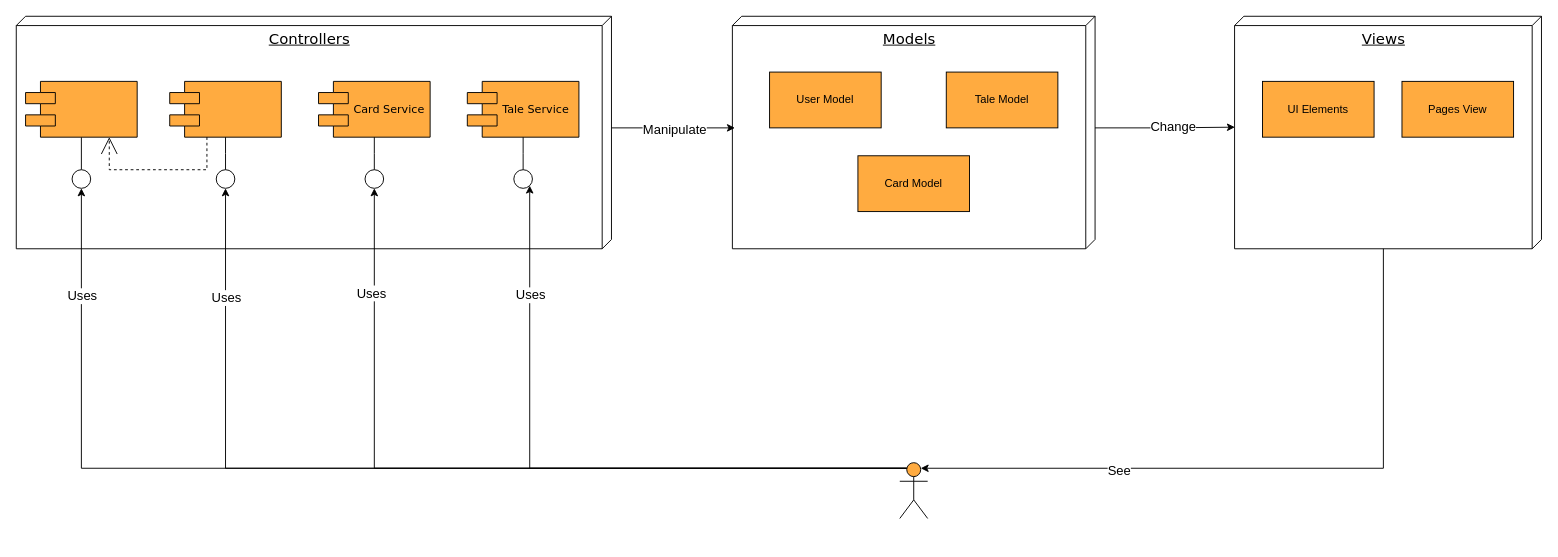
This 1558x557 diagram has some shape labels left out. The shapes that lost their labels are listed below. From the top down, each one's centre as x and y in pixels, then its label:
At (x=81, y=108): "AuthService".
At (x=225, y=108): "Auth Controller".
At (x=913, y=490): "User".
